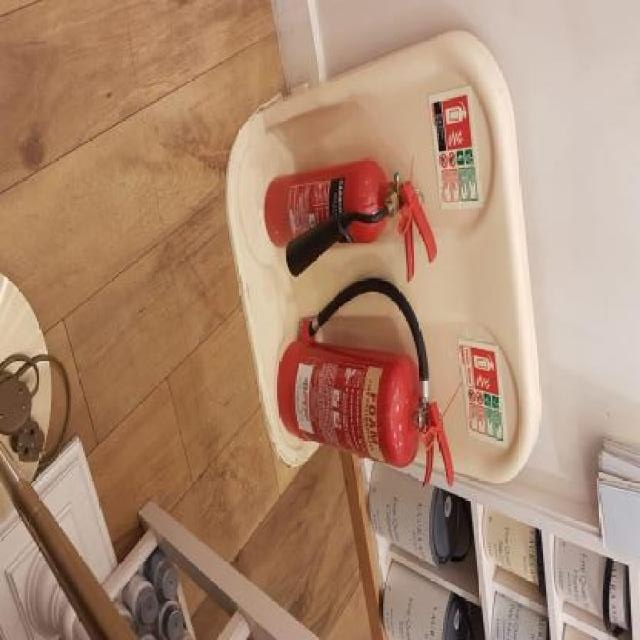fire extinguisher: (276, 278, 453, 487), (263, 160, 437, 285)
